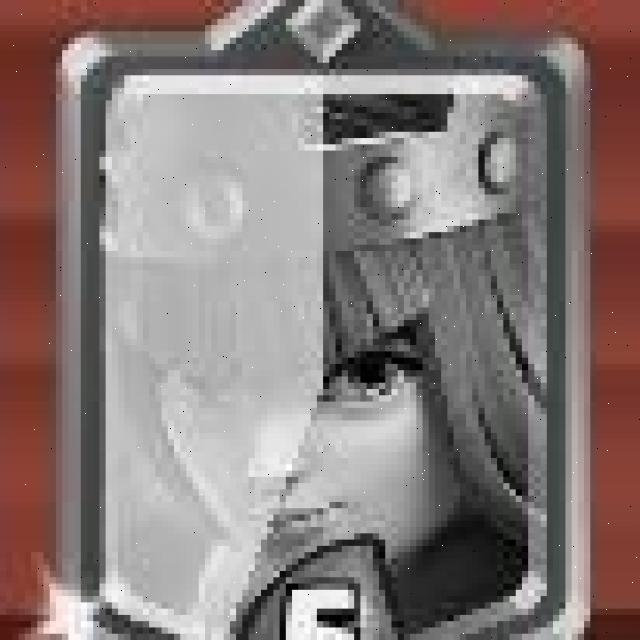Archer_Queen: (41, 0, 598, 634)
